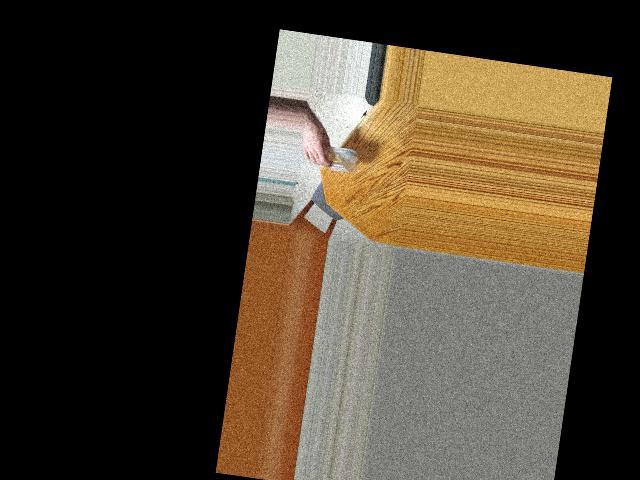cheese: (307, 135, 357, 180)
